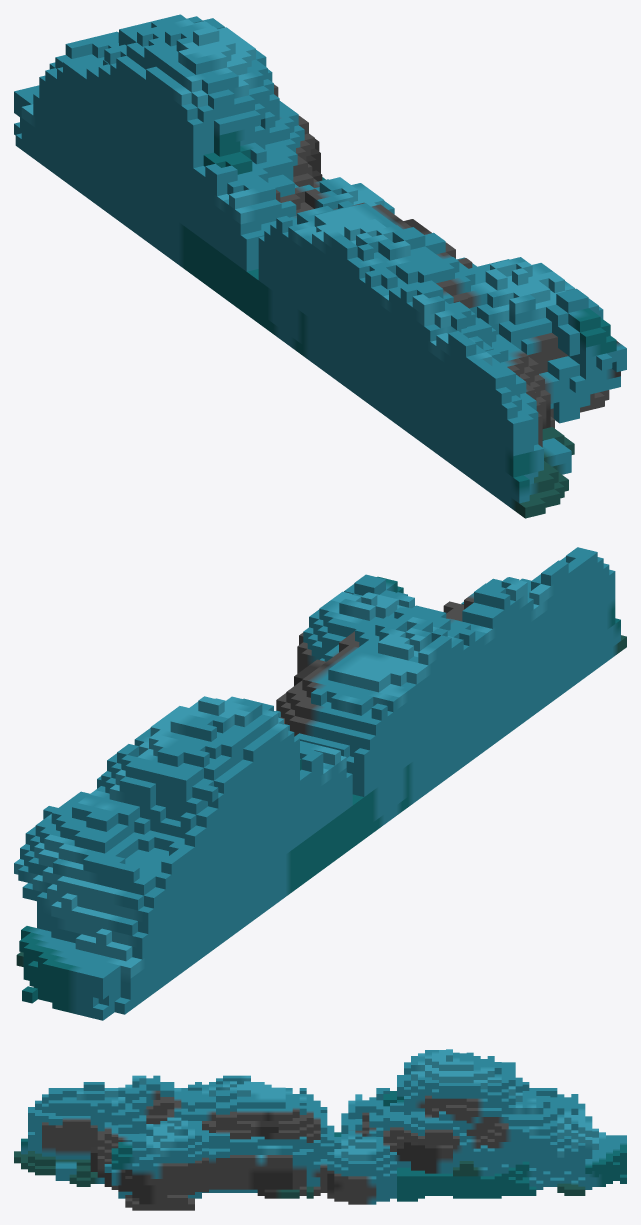
File: mossrockedge.fbx
3 views of the same model, one above another, from view 1: azimuth 30°, elevation 25°; view 2: azimuth 150°, elevation 25°; view 3: azimuth 270°, elevation 25° (orthographic). The views are drawn at different scales.
Parts seen in each view (by area): view 1: captainonhisbikescen_part_2; view 2: captainonhisbikescen_part_2; view 3: captainonhisbikescen_part_2.
Part boxes in pixels (x1=…): captainonhisbikescen_part_2: x1=14, y1=14, x2=626, y2=518; captainonhisbikescen_part_2: x1=14, y1=547, x2=626, y2=1020; captainonhisbikescen_part_2: x1=14, y1=1049, x2=626, y2=1210.
Size of the model in its own units: 18 by 19 by 88.
1 material, 1 textured.
